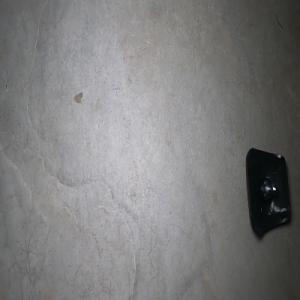LuggagePart: (244, 146, 291, 237)
